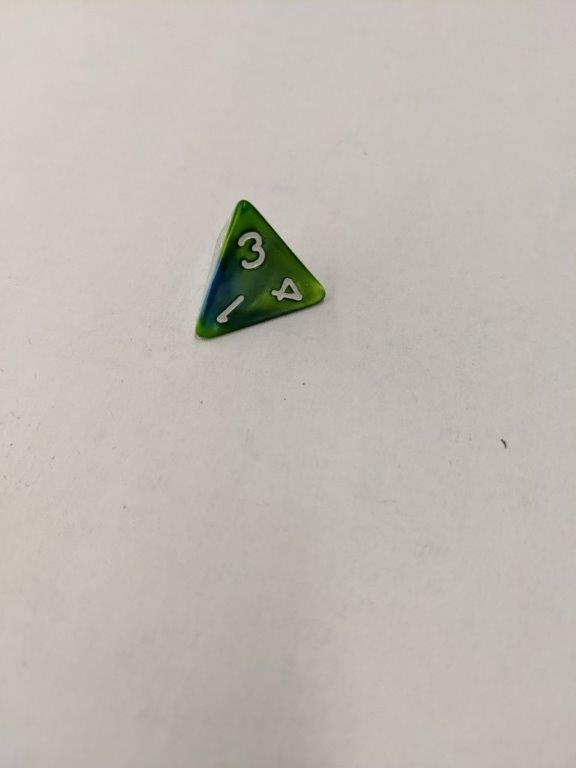d4-3: (193, 197, 327, 339)
